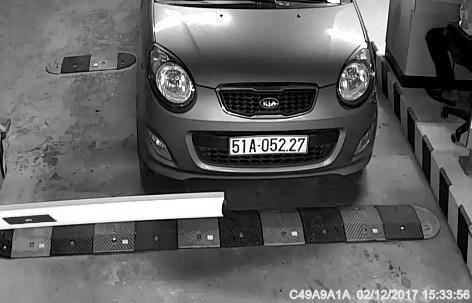License-plate: (225, 128, 317, 168)
